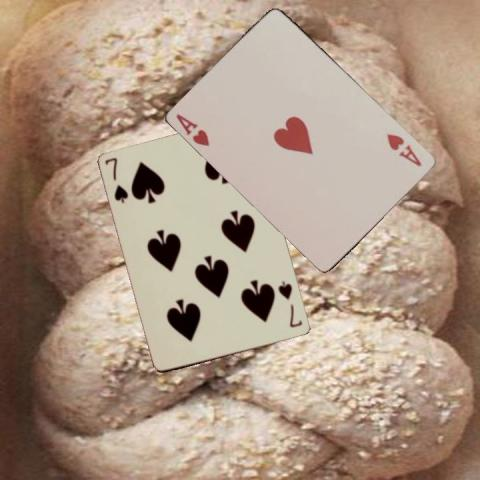7s: (275, 278, 304, 329), (102, 154, 130, 204)
Ah: (384, 130, 424, 168), (174, 110, 212, 148)
